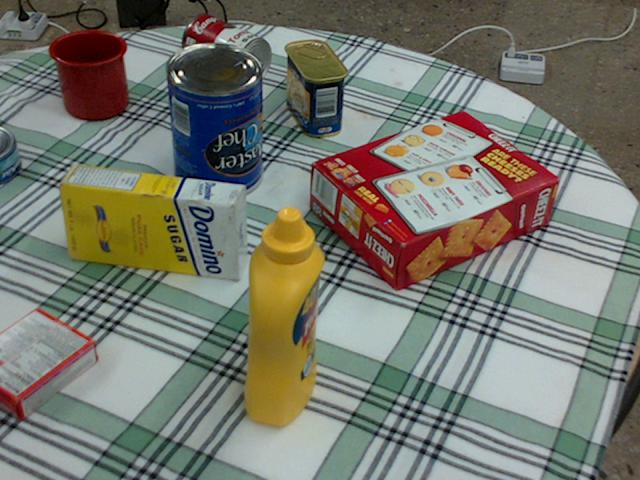cracker_box: (312, 111, 559, 290)
gelatin_box: (0, 307, 97, 418)
master_chef_can: (164, 43, 261, 199)
mug: (50, 29, 129, 118)
mustard_bottle: (244, 206, 324, 424)
potted_meat_can: (283, 40, 346, 136)
sugar_box: (58, 164, 245, 279)
tomato_soup_can: (182, 13, 269, 84)
tuna_fish_can: (0, 126, 20, 182)
